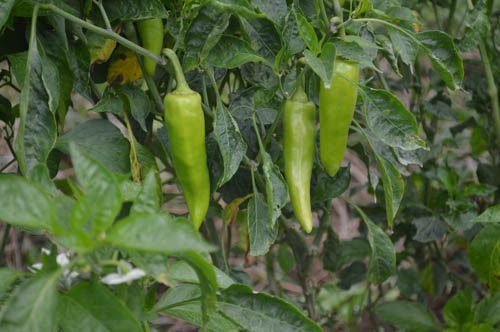ChiliPepper: (166, 93, 209, 229), (320, 60, 360, 175), (284, 102, 314, 233), (138, 20, 163, 75)
